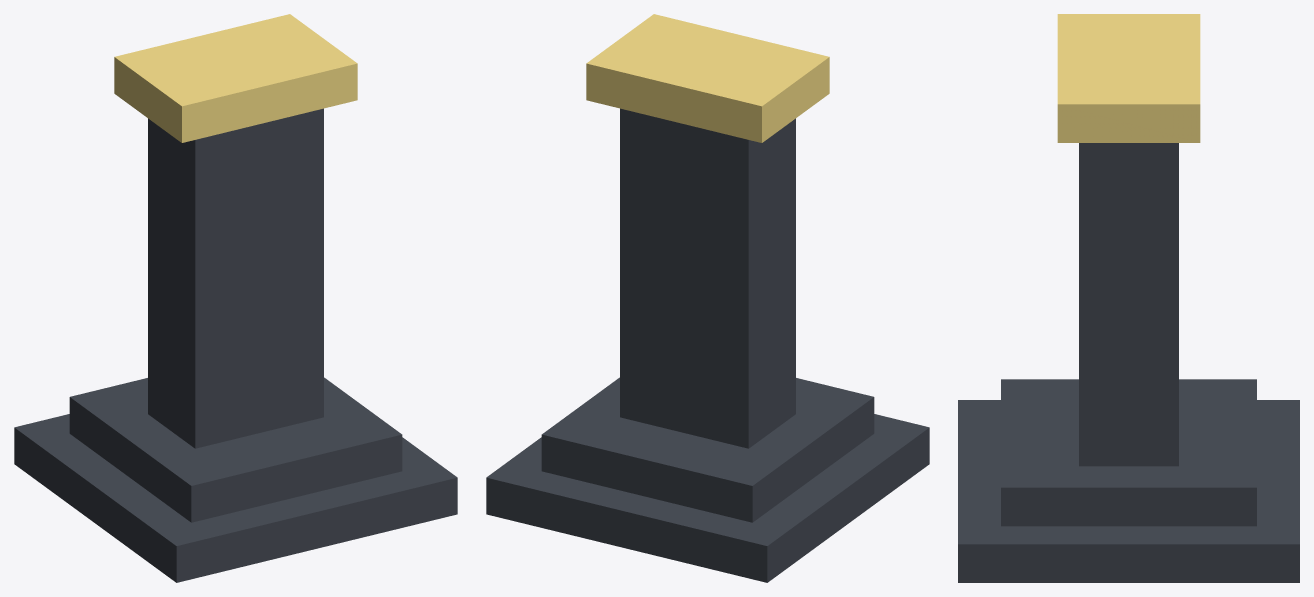
File: cyber_monolith.glb
3 renders of one model, left to right at view 1: azimuth 30°, elevation 25°; view 2: azimuth 150°, elevation 25°; view 3: azimuth 270°, elevation 25°, orthographic. The views are drawn at different scales.
Parts seen in each view (by area): view 1: Monolith_Shaft, Plinth_Base, Plinth_Mid, Monolith_Crown; view 2: Monolith_Shaft, Plinth_Base, Plinth_Mid, Monolith_Crown; view 3: Monolith_Shaft, Plinth_Base, Plinth_Mid, Monolith_Crown.
Boxes of the visible parts, <box> form: Monolith_Shaft: <box>148,108,323,448</box>; Plinth_Base: <box>14,414,457,582</box>; Plinth_Mid: <box>69,377,402,522</box>; Monolith_Crown: <box>114,14,357,142</box>; Monolith_Shaft: <box>620,108,795,448</box>; Plinth_Base: <box>486,414,929,582</box>; Plinth_Mid: <box>541,377,874,522</box>; Monolith_Crown: <box>586,14,829,142</box>; Monolith_Shaft: <box>1079,143,1178,466</box>; Plinth_Base: <box>958,400,1299,582</box>; Plinth_Mid: <box>1001,379,1256,526</box>; Monolith_Crown: <box>1057,14,1200,142</box>.
Bounding box in the file's own units: 2.4 × 3.5 × 2.4.
